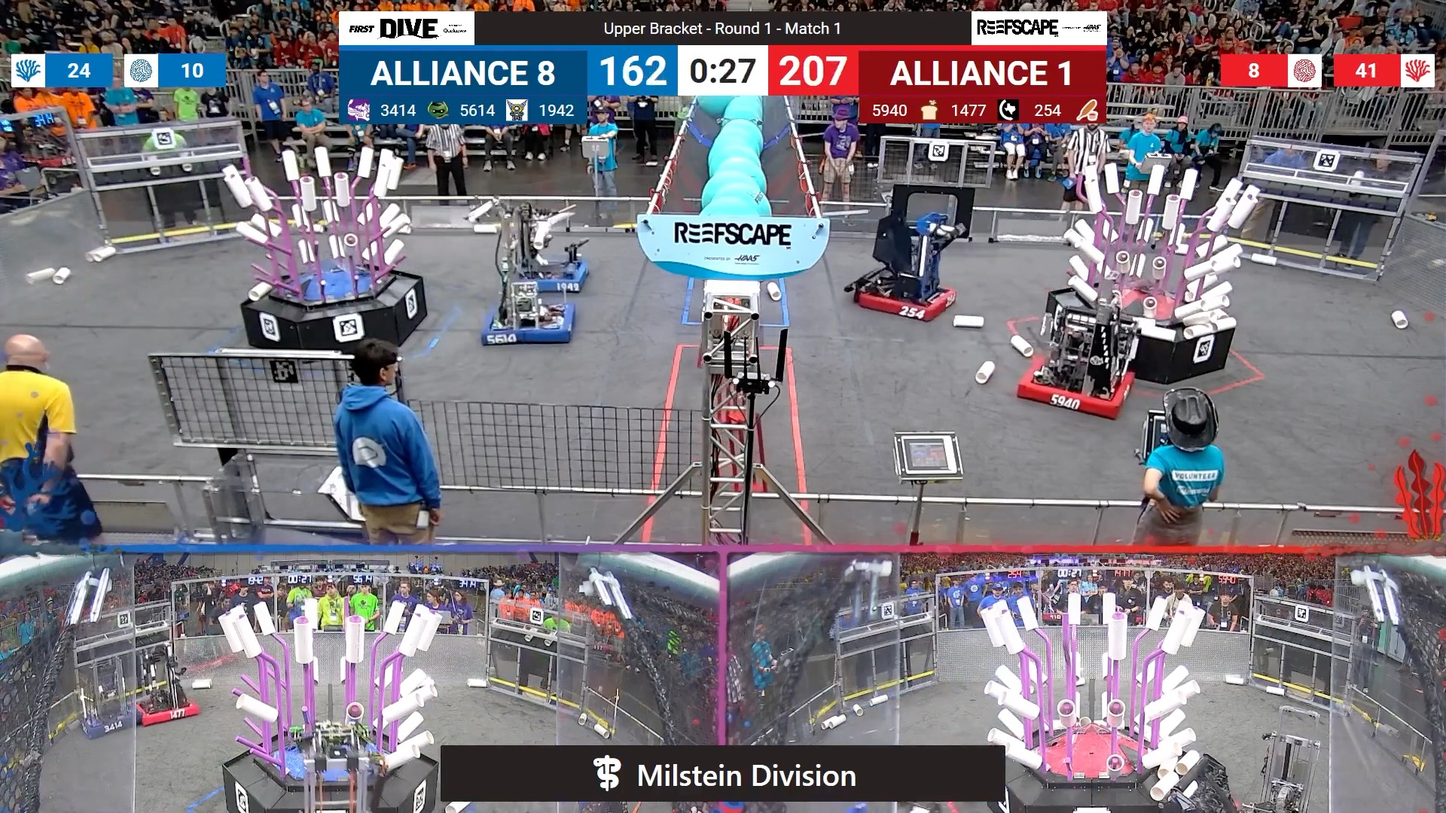bumpers: (1014, 356, 1151, 426), (848, 276, 962, 327), (481, 299, 582, 351), (498, 252, 597, 296), (126, 690, 209, 730), (77, 704, 136, 740)
